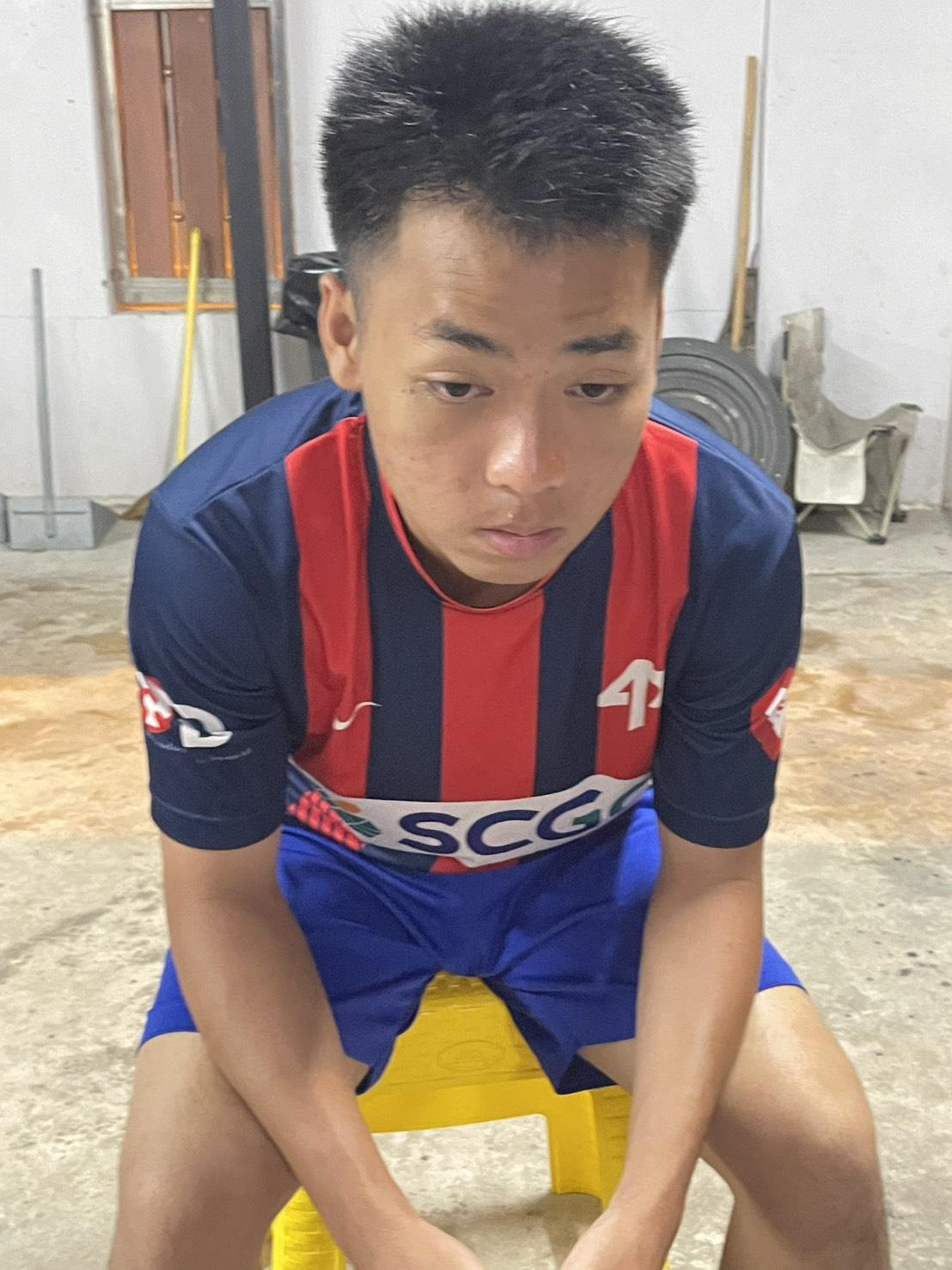BadPosture: (130, 7, 799, 875)
